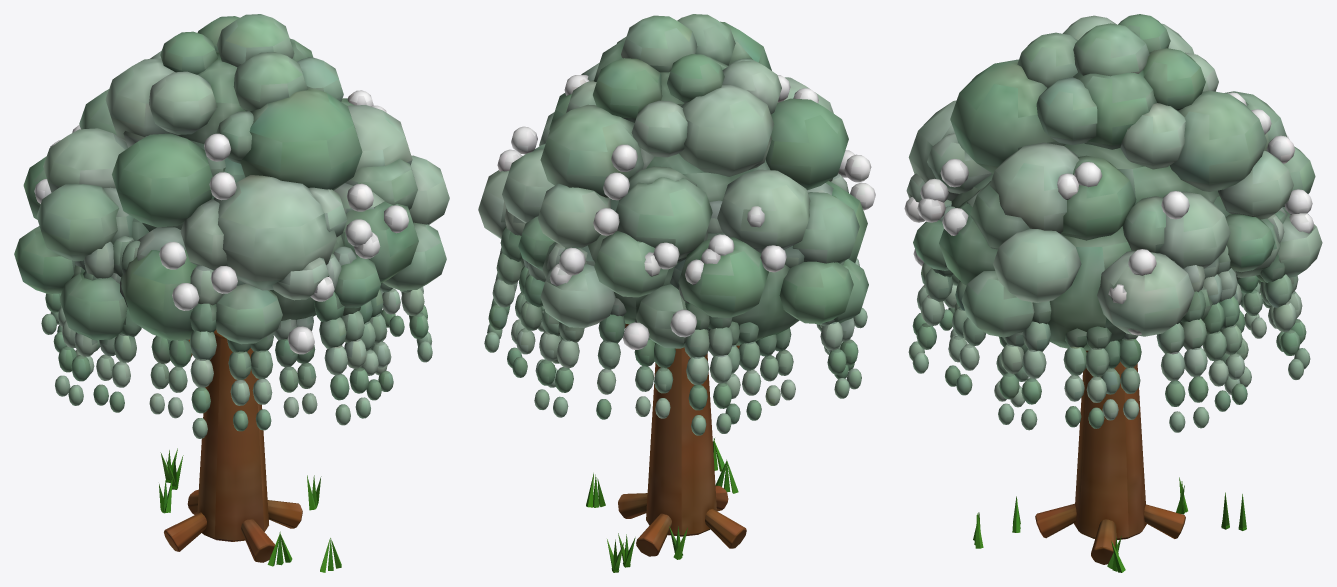
File: silver_pear_tree.glb
3 renders of one model, left to right at view 1: azimuth 30°, elevation 25°; view 2: azimuth 150°, elevation 25°; view 3: azimuth 270°, elevation 25°, orthographic. The views are drawn at different scales.
Visible parts, largest first — view 1: crown, silver_pear_tree; view 2: crown, silver_pear_tree; view 3: crown, silver_pear_tree.
Boxes of the visible parts, x1,y1,x2,y2 form: crown: [14, 14, 449, 438]; silver_pear_tree: [159, 329, 341, 572]; crown: [478, 14, 875, 435]; silver_pear_tree: [586, 324, 746, 572]; crown: [904, 14, 1322, 432]; silver_pear_tree: [973, 350, 1246, 572].
Size of the model in its own units: 1.08 by 1.4 by 1.02.
Materials: 1 (1 with a texture image).
